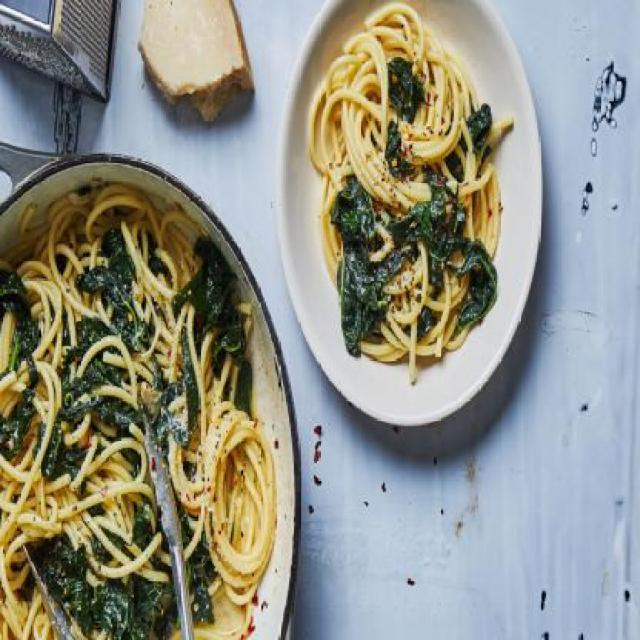Oil pasta: (9, 195, 286, 640), (319, 12, 524, 386)
